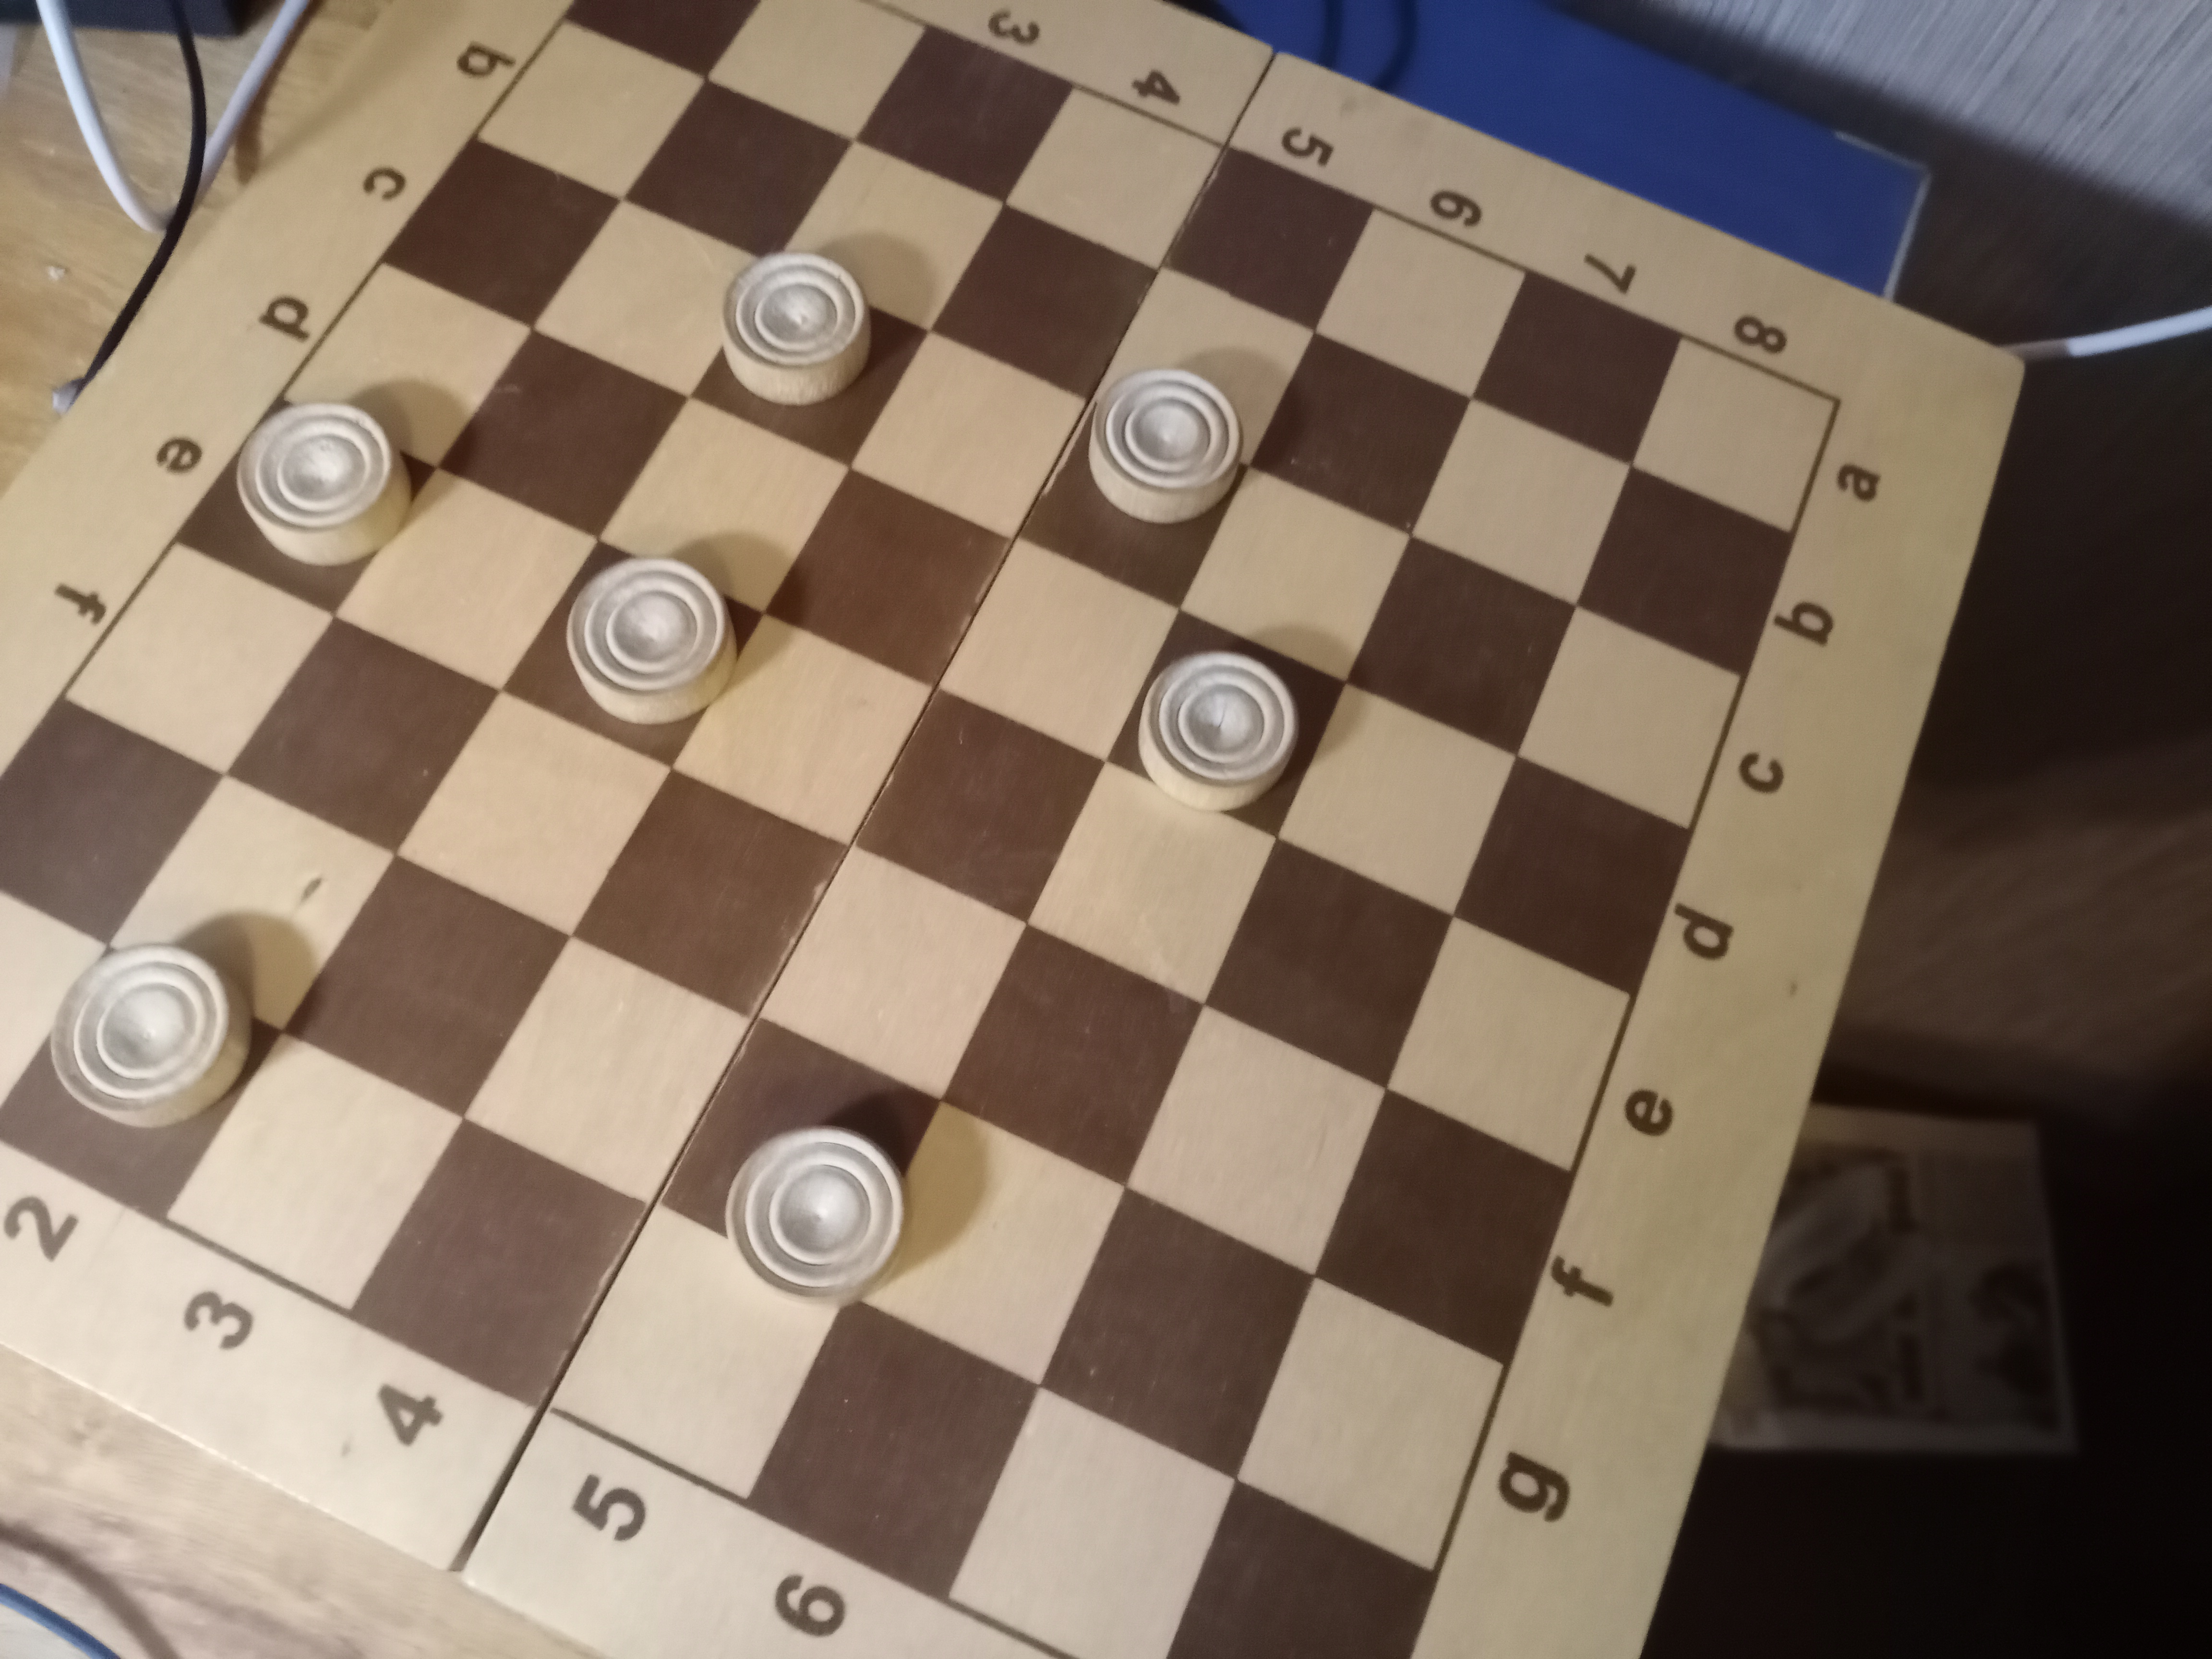White_Draught: (662, 1016, 941, 1307), (0, 943, 280, 1222), (503, 542, 763, 767), (1017, 368, 1251, 610), (178, 403, 437, 619), (1106, 610, 1346, 838), (691, 251, 930, 467)
